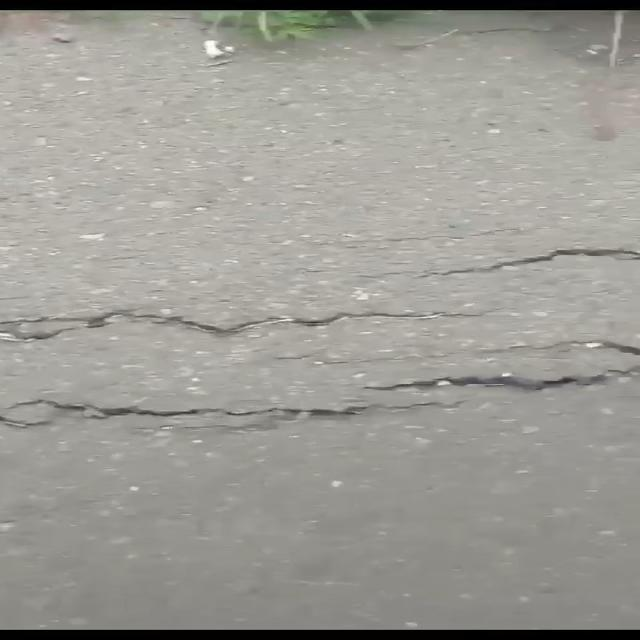Melintang: (0, 364, 640, 440), (0, 295, 499, 346), (418, 232, 639, 288)
